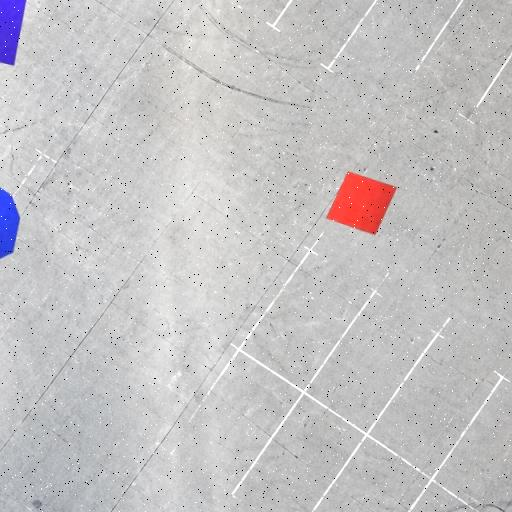RED_SQUARE: (326, 171, 398, 236)
